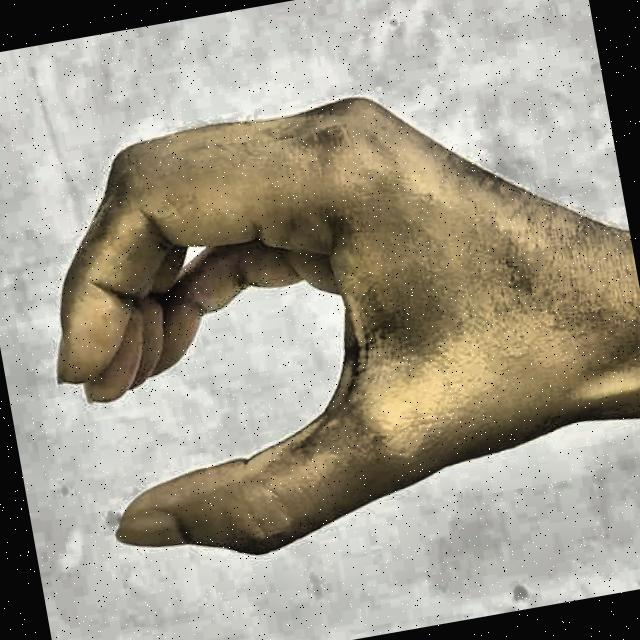Ka: (1, 16, 629, 636)
